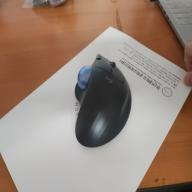mouse: (60, 44, 162, 155)
